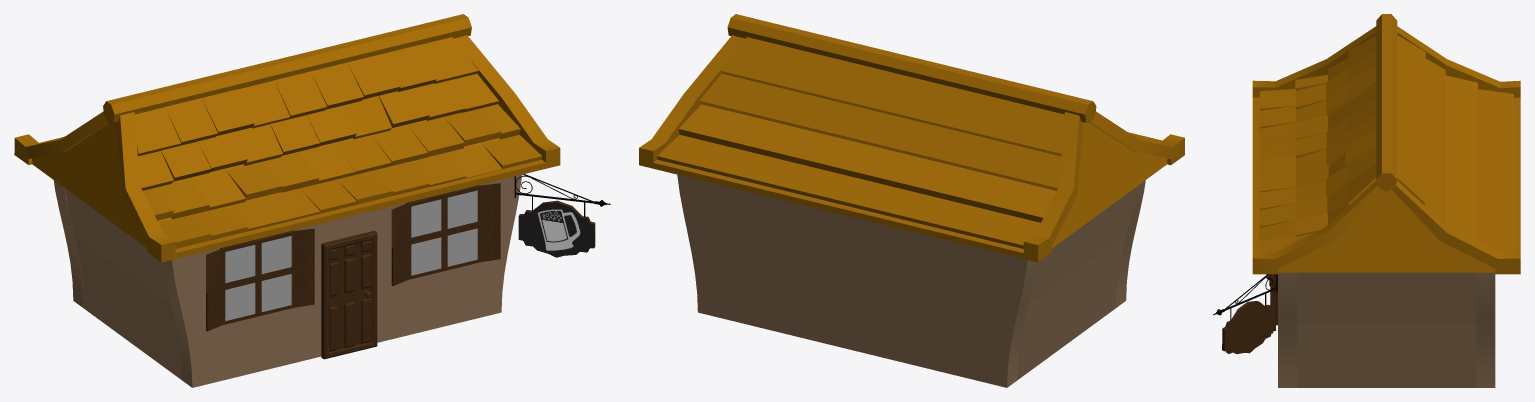
File: inn.fbx
3 renders of one model, left to right at view 1: azimuth 30°, elevation 25°; view 2: azimuth 150°, elevation 25°; view 3: azimuth 270°, elevation 25°, orthographic. The views are drawn at different scales.
Parts seen in each view (by area): view 1: polySurface20; view 2: polySurface20; view 3: polySurface20.
Boxes of the visible parts, box(x1,y1,x2,y2) form: polySurface20: box(14, 14, 610, 387); polySurface20: box(639, 14, 1184, 387); polySurface20: box(1213, 14, 1520, 387).
Size of the model in its own units: 11.75 by 6.49 by 8.01.
Materials: 8 (2 with a texture image).
